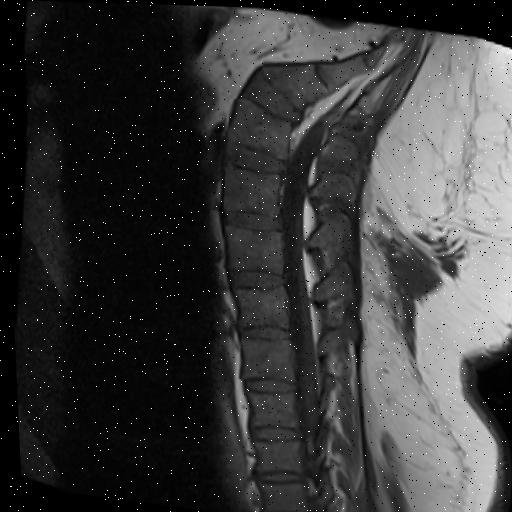L1: (237, 335, 290, 379)
L2: (231, 282, 285, 326)
L3: (222, 223, 280, 272)
L4: (221, 165, 278, 215)
L5: (225, 97, 290, 156)
S1: (261, 61, 326, 107)
